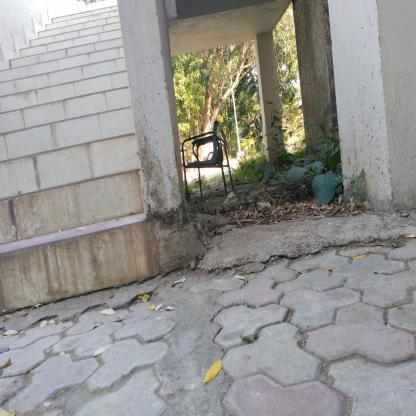stairs: (21, 45, 121, 326)
